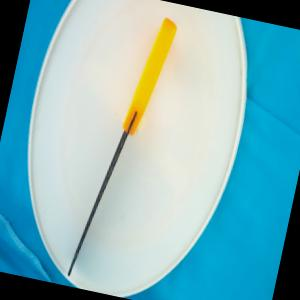serrote: (65, 6, 178, 287)
